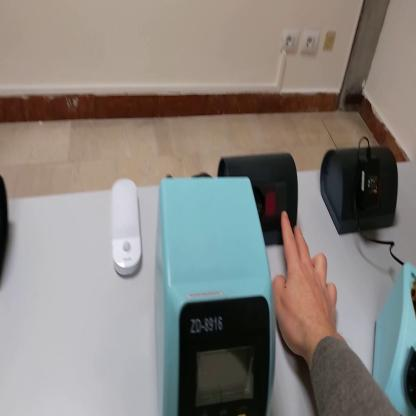hand: (274, 212, 337, 354)
socket: (222, 155, 302, 258), (322, 149, 400, 233)
welder base: (373, 262, 416, 416)
welder station: (154, 175, 278, 415)
